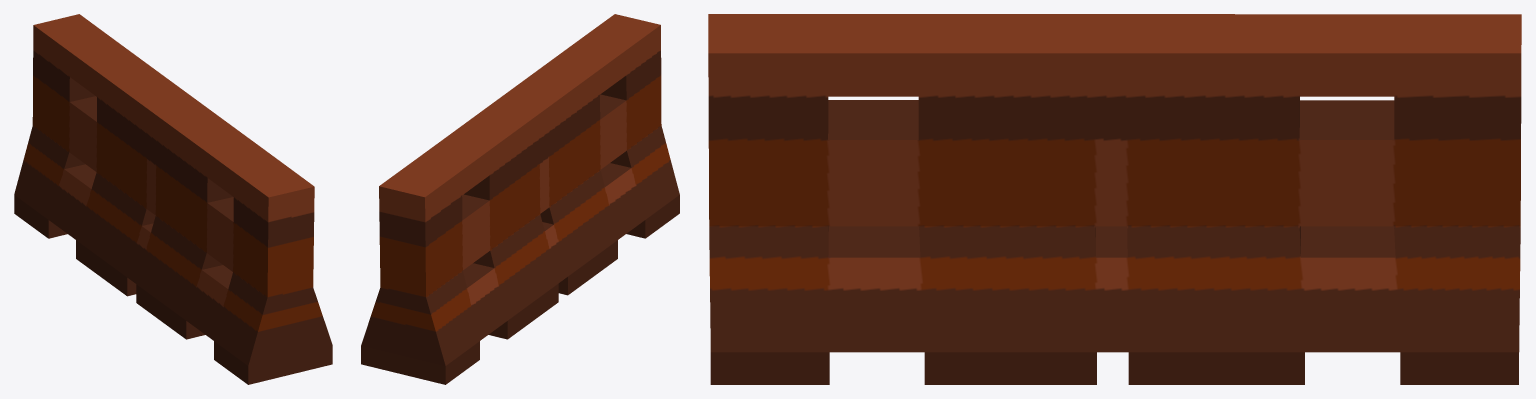
The model's file is env_border_v1.fbx.
The picture shows the model from 3 angles, left to right: view 1: azimuth 30°, elevation 25°; view 2: azimuth 150°, elevation 25°; view 3: azimuth 270°, elevation 25°; orthographic projection. The views are drawn at different scales.
Parts seen in each view (by area): view 1: env_border; view 2: env_border; view 3: env_border.
Part boxes in pixels (left/top/right/bottom): env_border: left=14, top=14, right=332, bottom=384; env_border: left=361, top=14, right=679, bottom=384; env_border: left=708, top=14, right=1521, bottom=384.
Bounding box in the file's own units: 132 × 273 × 637.
1 material, 1 textured.
